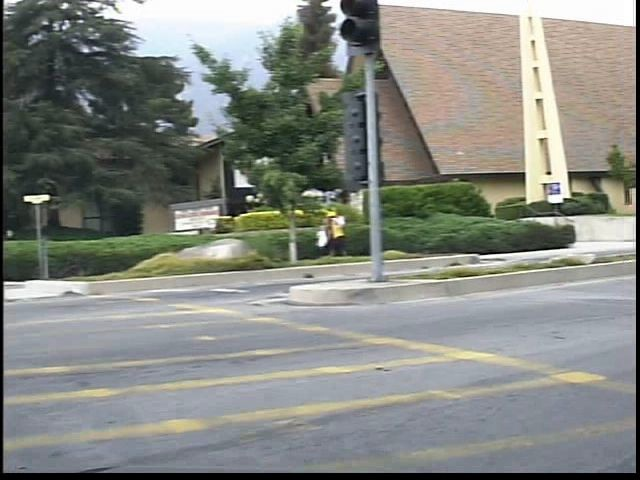person: (335, 206, 365, 262)
